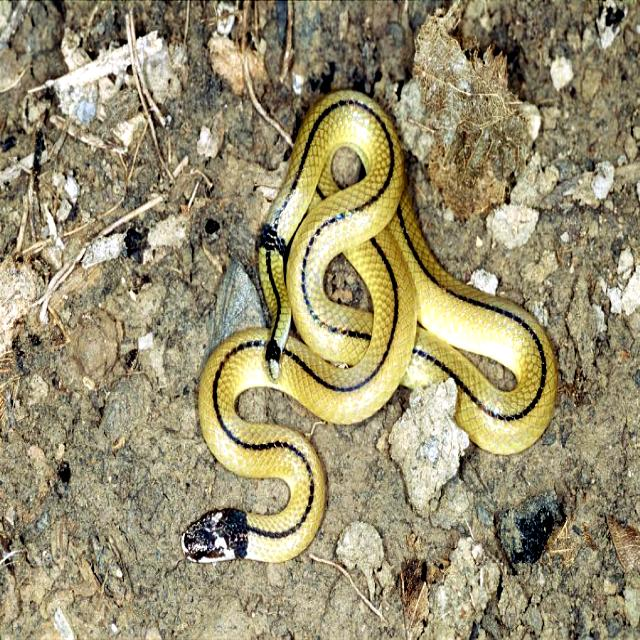Calliophis maculiceps: (183, 91, 556, 562)
snake: (183, 91, 556, 562)
